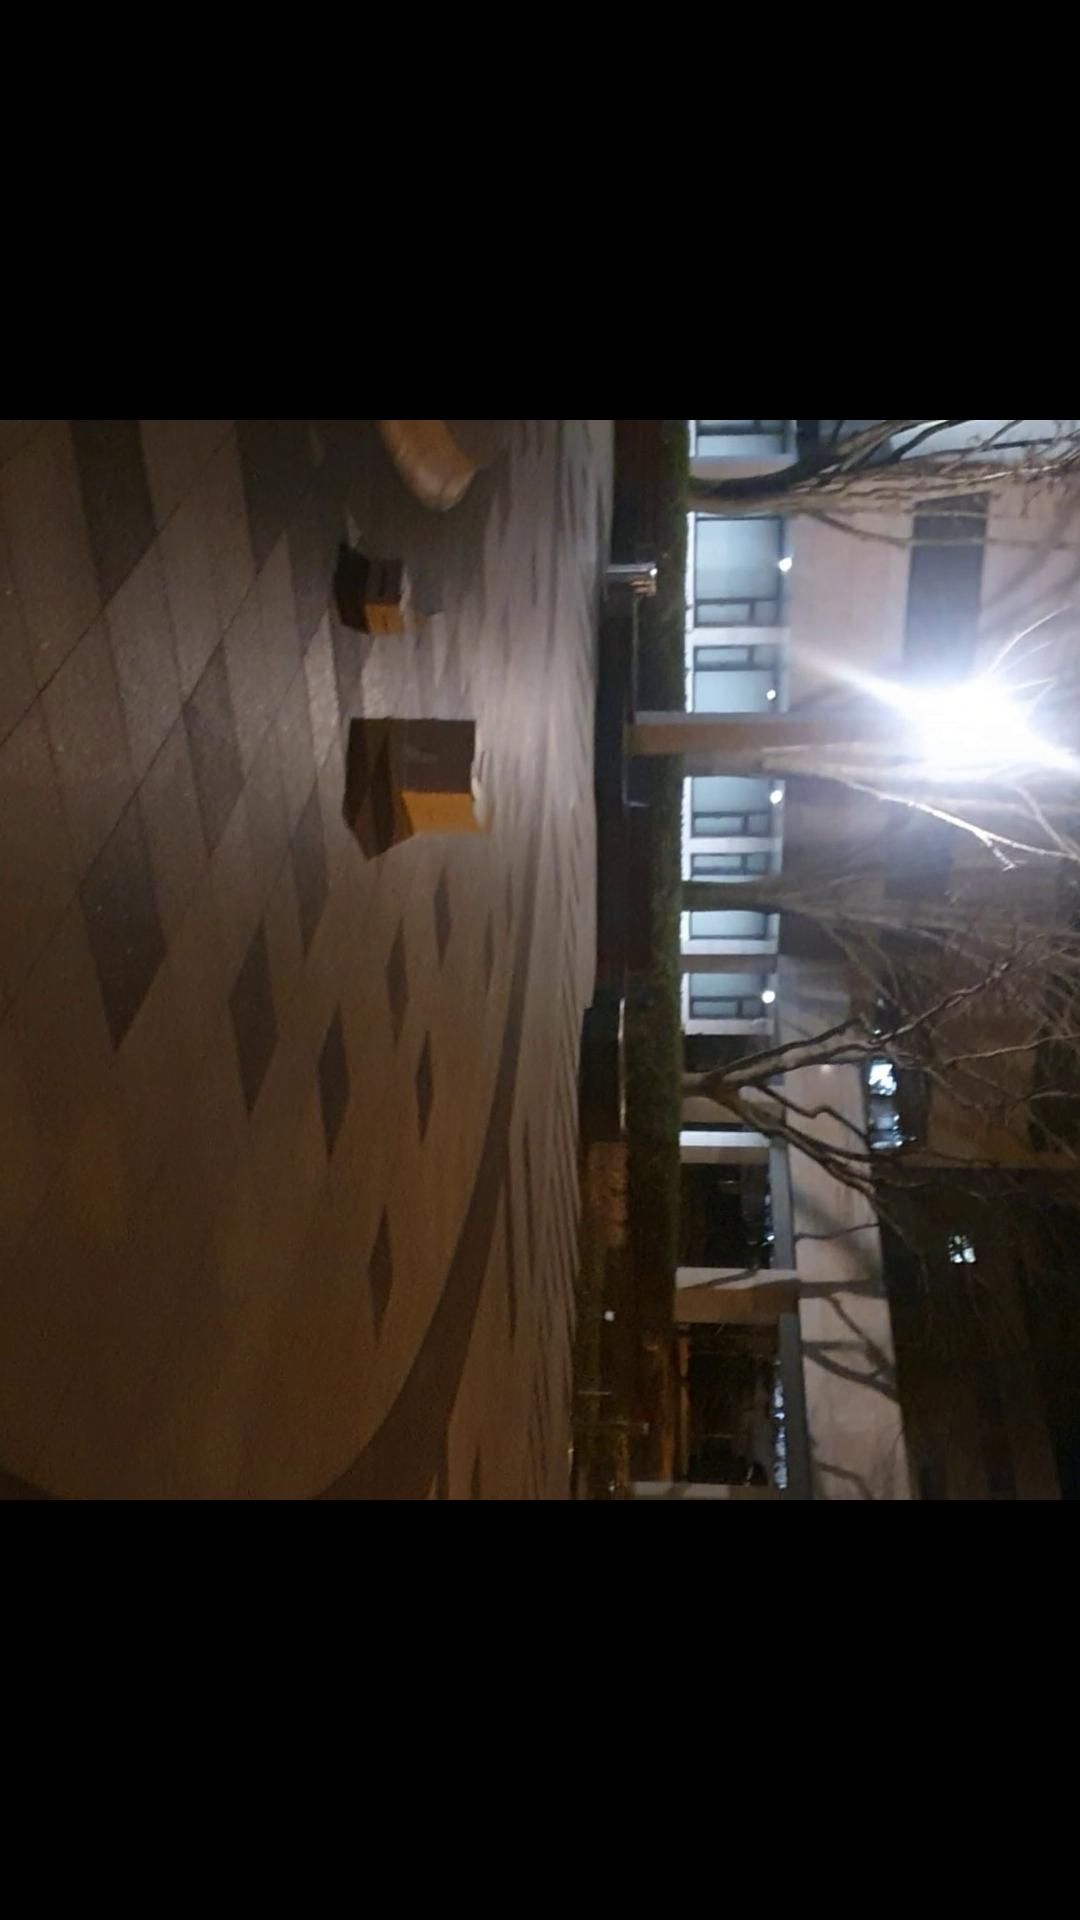Box: (385, 703, 497, 845), (340, 533, 417, 647)
